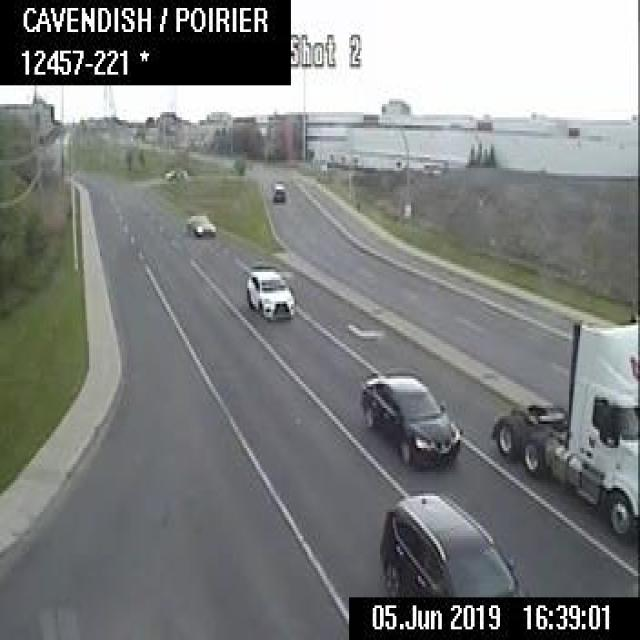vehicle: (489, 312, 638, 531), (378, 488, 524, 594), (358, 368, 464, 464), (245, 268, 293, 318), (186, 211, 217, 233), (164, 165, 188, 180), (271, 183, 285, 201)
